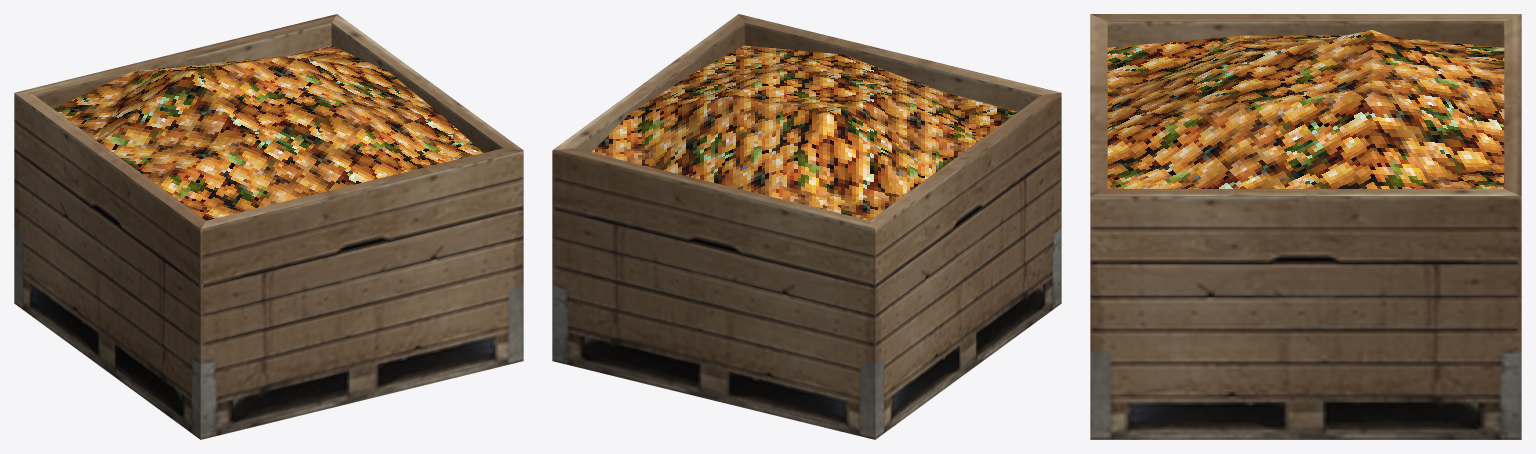
The model's file is Pallete03.obj.
3 views of the same model, side by side, from view 1: azimuth 30°, elevation 25°; view 2: azimuth 150°, elevation 25°; view 3: azimuth 270°, elevation 25° (orthographic). The views are drawn at different scales.
Visible parts, largest first — view 1: Pallette03, Fruits02; view 2: Pallette03, Fruits02; view 3: Pallette03, Fruits02.
Boxes of the visible parts, x1,y1,x2,y2 form: Pallette03: [14, 14, 523, 439]; Fruits02: [54, 46, 482, 220]; Pallette03: [552, 14, 1061, 439]; Fruits02: [591, 45, 1017, 220]; Pallette03: [1090, 14, 1521, 439]; Fruits02: [1107, 30, 1504, 188].
Bounding box in the file's own units: 2.03 × 1.51 × 2.03.
